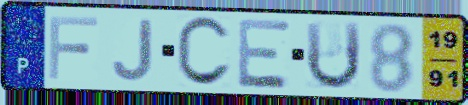8: (366, 20, 419, 95)
C: (174, 14, 234, 90)
E: (236, 16, 294, 91)
F: (46, 13, 101, 81)
J: (110, 17, 155, 83)
U: (303, 20, 364, 93)
